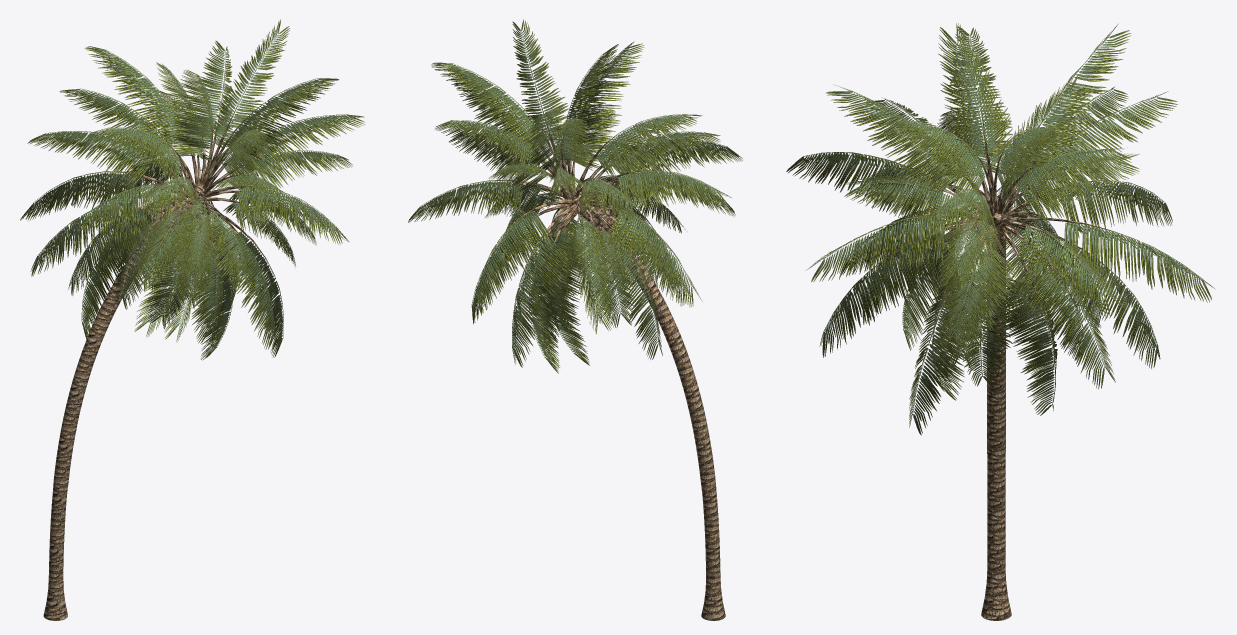
Rendered from Palm_1_4.fbx.
The picture shows the model from 3 angles, left to right: view 1: azimuth 30°, elevation 25°; view 2: azimuth 150°, elevation 25°; view 3: azimuth 270°, elevation 25°; orthographic projection. The views are drawn at different scales.
Visible parts, largest first — view 1: Palm_1_4; view 2: Palm_1_4; view 3: Palm_1_4.
Part boxes in pixels (box(x1,y1,x2,y2)): Palm_1_4: box(20, 19, 365, 620); Palm_1_4: box(408, 19, 742, 620); Palm_1_4: box(786, 23, 1215, 620).
Bounding box in the file's own units: 665 × 1127 × 679.
